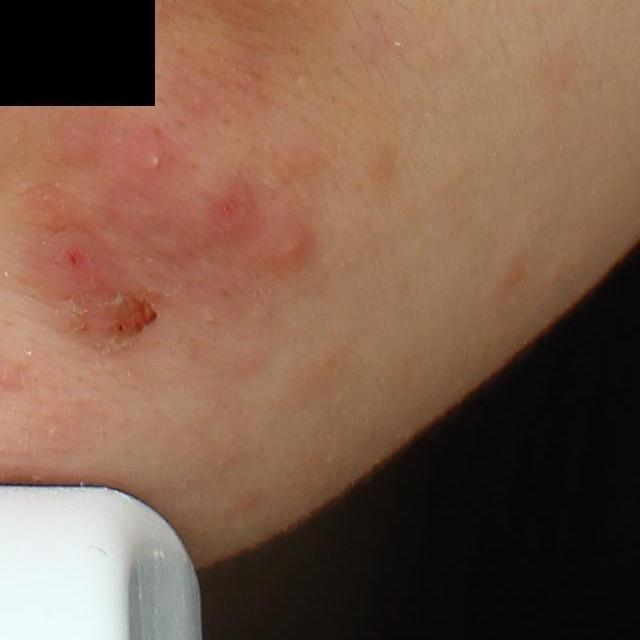other: (73, 297, 158, 348)
papule: (36, 225, 122, 317), (203, 184, 265, 243), (263, 217, 315, 275), (24, 182, 77, 228)
